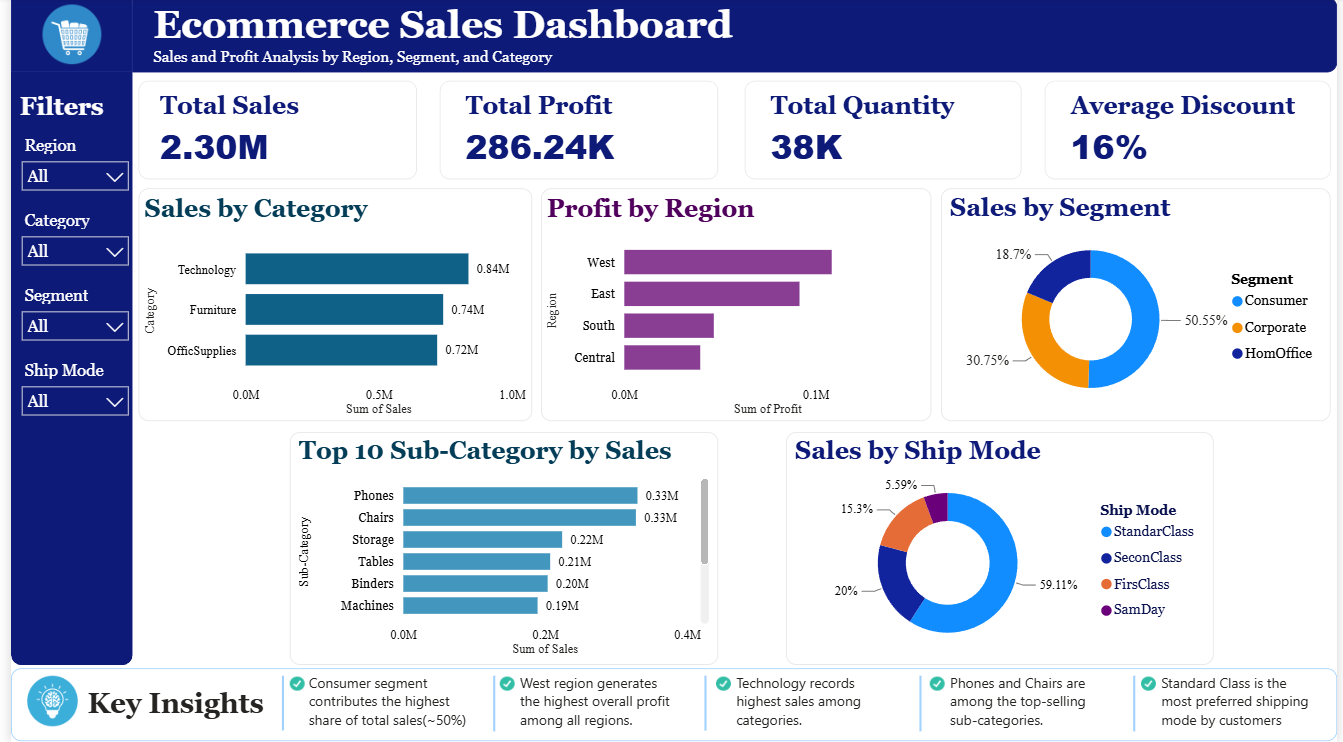

Layout of this report page (visuals, bound fields, positions):
{"tool":"powerbi","page":{"name":"Page 1","canvas":[1280,720],"ordinal":0},"visuals":[{"type":"textbox","box":[0,0,1280,72.5],"z":0},{"type":"cardVisual","title":"Total Sales","fields":{"Data":["Sum(SampleSuperstore.Sales)"]},"box":[123.5,81,268.8,95],"z":1000},{"type":"cardVisual","fields":{"Data":["Sum(SampleSuperstore.Profit)"]},"box":[413.5,81,268.8,95],"z":2000},{"type":"cardVisual","fields":{"Data":["Avg(SampleSuperstore.Discount)"]},"box":[997.5,81.2,276.2,95],"z":3000},{"type":"cardVisual","fields":{"Data":["Sum(SampleSuperstore.Quantity)"]},"box":[708.5,81,267.5,95],"z":4000},{"type":"clusteredBarChart","title":"Sales by Category","fields":{"Category":["SampleSuperstore.Category"],"Y":["Sum(SampleSuperstore.Sales)"]},"box":[123.5,184.7,380,225],"z":5000},{"type":"clusteredBarChart","title":"Profit by Region","fields":{"Category":["SampleSuperstore.Region"],"Y":["Sum(SampleSuperstore.Profit)"]},"box":[511,184.7,377,225],"z":6000},{"type":"donutChart","title":"Sales by Segment","fields":{"Category":["SampleSuperstore.Segment"],"Y":["Sum(SampleSuperstore.Sales)"]},"box":[897.5,185,376.2,225],"z":7000},{"type":"clusteredBarChart","title":"Top 10 Sub-Category by Sales","fields":{"Category":["SampleSuperstore.Sub-Category"],"Y":["Sum(SampleSuperstore.Sales)"]},"box":[268.8,420,413.8,225],"z":8000},{"type":"donutChart","title":"Sales by Ship Mode","fields":{"Category":["SampleSuperstore.Ship Mode"],"Y":["Sum(SampleSuperstore.Sales)"]},"box":[747.5,420,412.5,225],"z":9000},{"type":"shape","box":[0,0,117.5,645],"z":10000},{"type":"slicer","fields":{"Values":["SampleSuperstore.Region"]},"box":[0,128.8,123.8,72.5],"z":11000},{"type":"slicer","fields":{"Values":["SampleSuperstore.Category"]},"box":[0,201.2,123.8,72.5],"z":12000},{"type":"slicer","fields":{"Values":["SampleSuperstore.Segment"]},"box":[0,273.8,123.8,72.5],"z":13000},{"type":"slicer","fields":{"Values":["SampleSuperstore.Ship Mode"]},"box":[0,346.2,123.8,72.5],"z":14000},{"type":"shape","box":[0,0,117.5,72.5],"z":15000},{"type":"image","box":[0,7.5,117.5,57.5],"z":16000},{"type":"textbox","box":[8.8,91.2,108.8,37.5],"z":17000},{"type":"textbox","box":[0,647.5,1280,70],"z":18000},{"type":"shape","box":[242.3,655.4,40,53.1],"z":19000},{"type":"textbox","box":[282.3,648,163.8,63.1],"z":20000},{"type":"shape","box":[446.2,655.4,40,53.8],"z":21000},{"type":"textbox","box":[486.2,648,163.8,63.8],"z":22000},{"type":"textbox","box":[694.6,648,163.1,63.1],"z":23000},{"type":"textbox","box":[900.8,648,163.8,63.8],"z":24000},{"type":"textbox","box":[1105,648,163.8,63.8],"z":25000},{"type":"shape","box":[650,655.4,40,53.1],"z":26000},{"type":"shape","box":[857.7,655.4,40,53.8],"z":27000},{"type":"shape","box":[1064.6,655.4,40,53.8],"z":28000},{"type":"image","box":[8.8,655,63.8,48.8],"z":29000},{"type":"image","box":[269,655,14,15],"z":30000},{"type":"image","box":[471.7,655,14.2,15],"z":31000},{"type":"image","box":[680.8,655,14.2,15],"z":32000},{"type":"image","box":[1090.8,655,14.2,15],"z":33000},{"type":"image","box":[886.7,655,14.2,15],"z":34000}]}

Visuals, with their boxes in screenshot pixels (x1, y1, x2, y2), scaled from the page's 1280x720 canvas onto the 1343x742 screenshot:
textbox: bbox=[0, 0, 1342, 75]
"Total Sales" cardVisual: bbox=[130, 83, 412, 181]
cardVisual - Sum(SampleSuperstore.Profit): bbox=[434, 83, 716, 181]
cardVisual - Avg(SampleSuperstore.Discount): bbox=[1047, 84, 1336, 182]
cardVisual - Sum(SampleSuperstore.Quantity): bbox=[743, 83, 1024, 181]
"Sales by Category" clusteredBarChart: bbox=[130, 190, 528, 422]
"Profit by Region" clusteredBarChart: bbox=[536, 190, 932, 422]
"Sales by Segment" donutChart: bbox=[942, 191, 1336, 423]
"Top 10 Sub-Category by Sales" clusteredBarChart: bbox=[282, 433, 716, 665]
"Sales by Ship Mode" donutChart: bbox=[784, 433, 1217, 665]
shape: bbox=[0, 0, 123, 665]
slicer - SampleSuperstore.Region: bbox=[0, 133, 130, 207]
slicer - SampleSuperstore.Category: bbox=[0, 207, 130, 282]
slicer - SampleSuperstore.Segment: bbox=[0, 282, 130, 357]
slicer - SampleSuperstore.Ship Mode: bbox=[0, 357, 130, 431]
shape: bbox=[0, 0, 123, 75]
image: bbox=[0, 8, 123, 67]
textbox: bbox=[9, 94, 123, 133]
textbox: bbox=[0, 667, 1342, 739]
shape: bbox=[254, 675, 296, 730]
textbox: bbox=[296, 668, 468, 733]
shape: bbox=[468, 675, 510, 731]
textbox: bbox=[510, 668, 682, 734]
textbox: bbox=[729, 668, 900, 733]
textbox: bbox=[945, 668, 1117, 734]
textbox: bbox=[1159, 668, 1331, 734]
shape: bbox=[682, 675, 724, 730]
shape: bbox=[900, 675, 942, 731]
shape: bbox=[1117, 675, 1159, 731]
image: bbox=[9, 675, 76, 725]
image: bbox=[282, 675, 297, 690]
image: bbox=[495, 675, 510, 690]
image: bbox=[714, 675, 729, 690]
image: bbox=[1144, 675, 1159, 690]
image: bbox=[930, 675, 945, 690]
